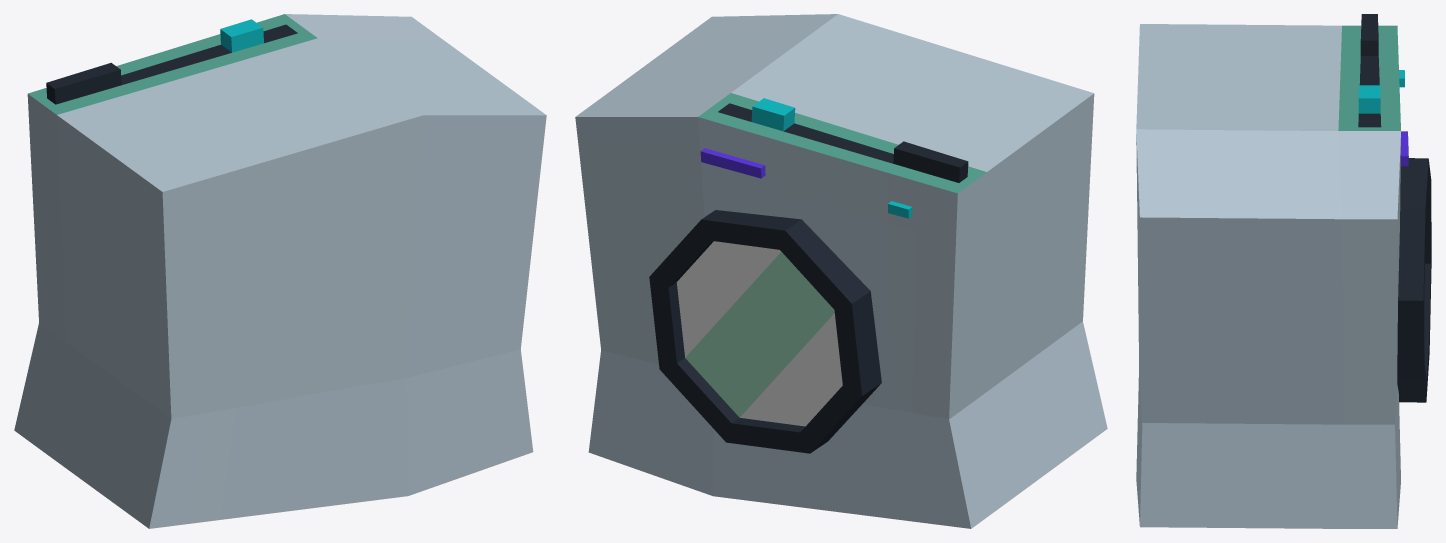
File: Building_WashingMachineSign.fbx
3 views of the same model, side by side, from view 1: azimuth 30°, elevation 25°; view 2: azimuth 150°, elevation 25°; view 3: azimuth 270°, elevation 25° (orthographic). The views are drawn at different scales.
Visible parts, largest first — view 1: Laundr-o-maat.001; view 2: Laundr-o-maat.001; view 3: Laundr-o-maat.001.
Boxes of the visible parts, box(x1,y1,x2,y2) form: Laundr-o-maat.001: box(14, 14, 546, 528); Laundr-o-maat.001: box(575, 14, 1107, 528); Laundr-o-maat.001: box(1136, 14, 1431, 528).
Size of the model in its own units: 127 by 119 by 85.94.
